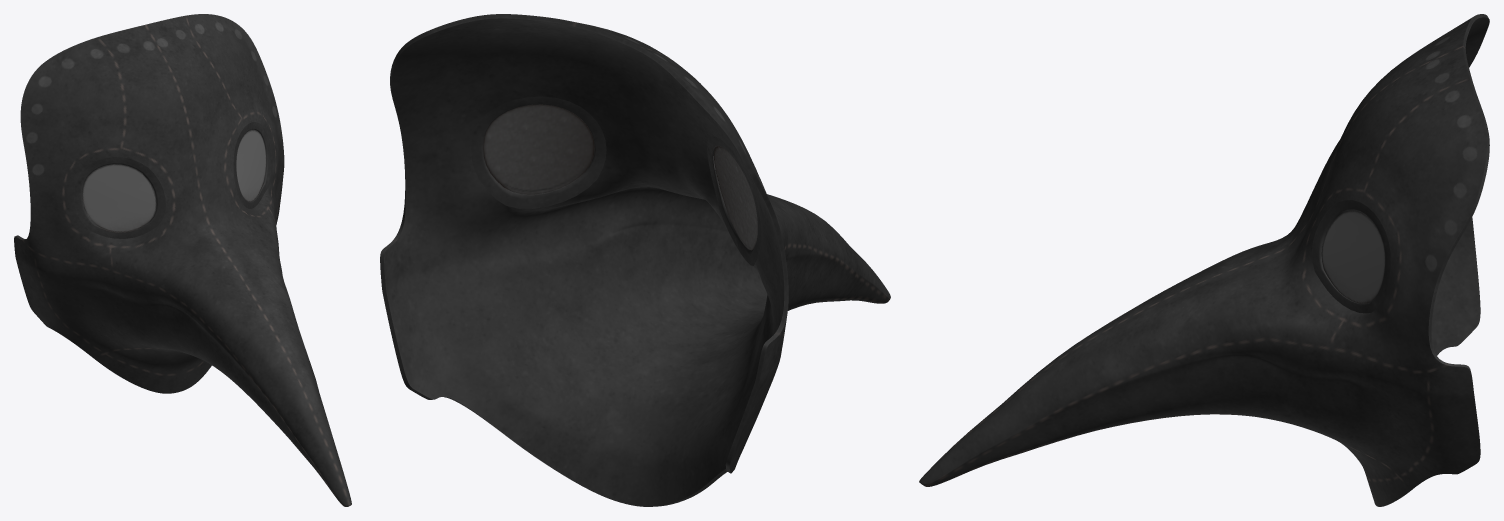
3 views of the same model, side by side, from view 1: azimuth 30°, elevation 25°; view 2: azimuth 150°, elevation 25°; view 3: azimuth 270°, elevation 25° (orthographic). The views are drawn at different scales.
Visible parts, largest first — view 1: PlagueDoctorMask; view 2: PlagueDoctorMask; view 3: PlagueDoctorMask.
Boxes of the visible parts, left/top/right/bottom form: PlagueDoctorMask: left=14, top=14, right=351, bottom=506; PlagueDoctorMask: left=380, top=14, right=890, bottom=506; PlagueDoctorMask: left=919, top=14, right=1489, bottom=506.
Size of the model in its own units: 1.93 by 2.47 by 2.82.
1 material, 1 textured.
